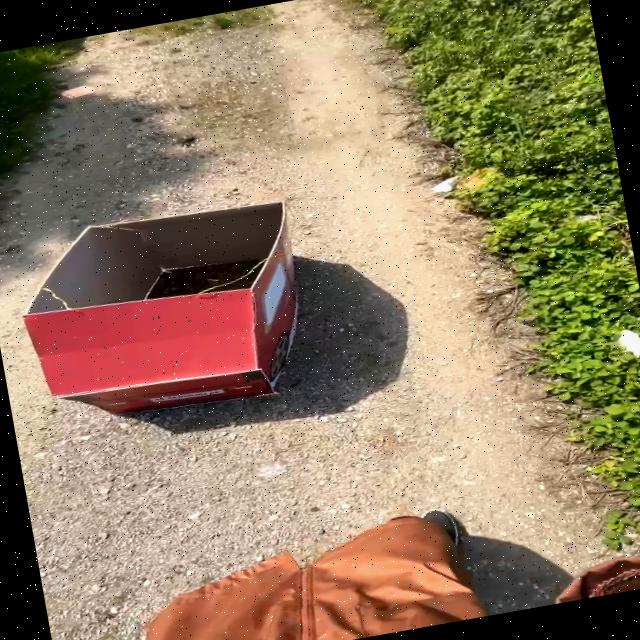red_car: (0, 175, 346, 445)
